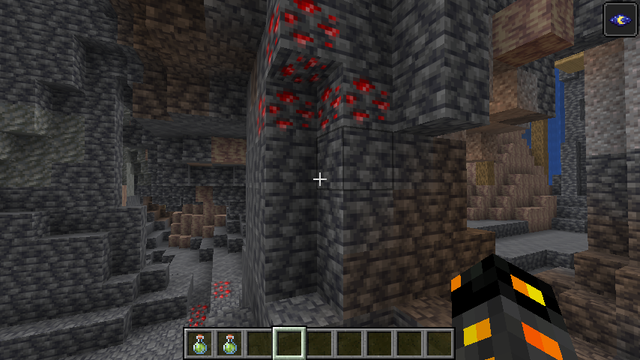redstone: (257, 1, 393, 133), (188, 280, 231, 327)
